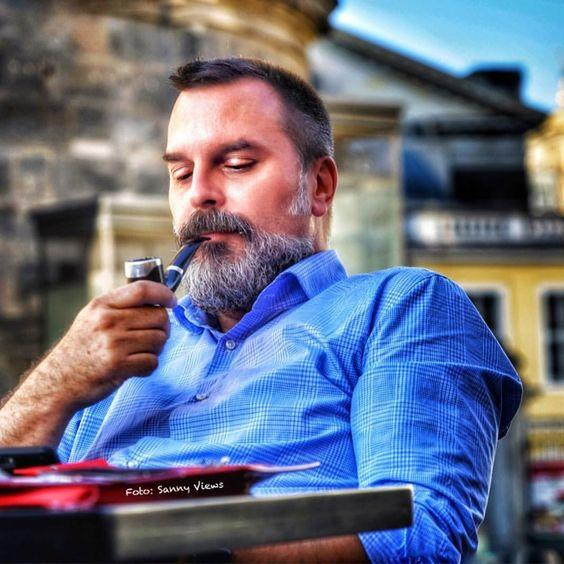trubka: (124, 236, 212, 291)
